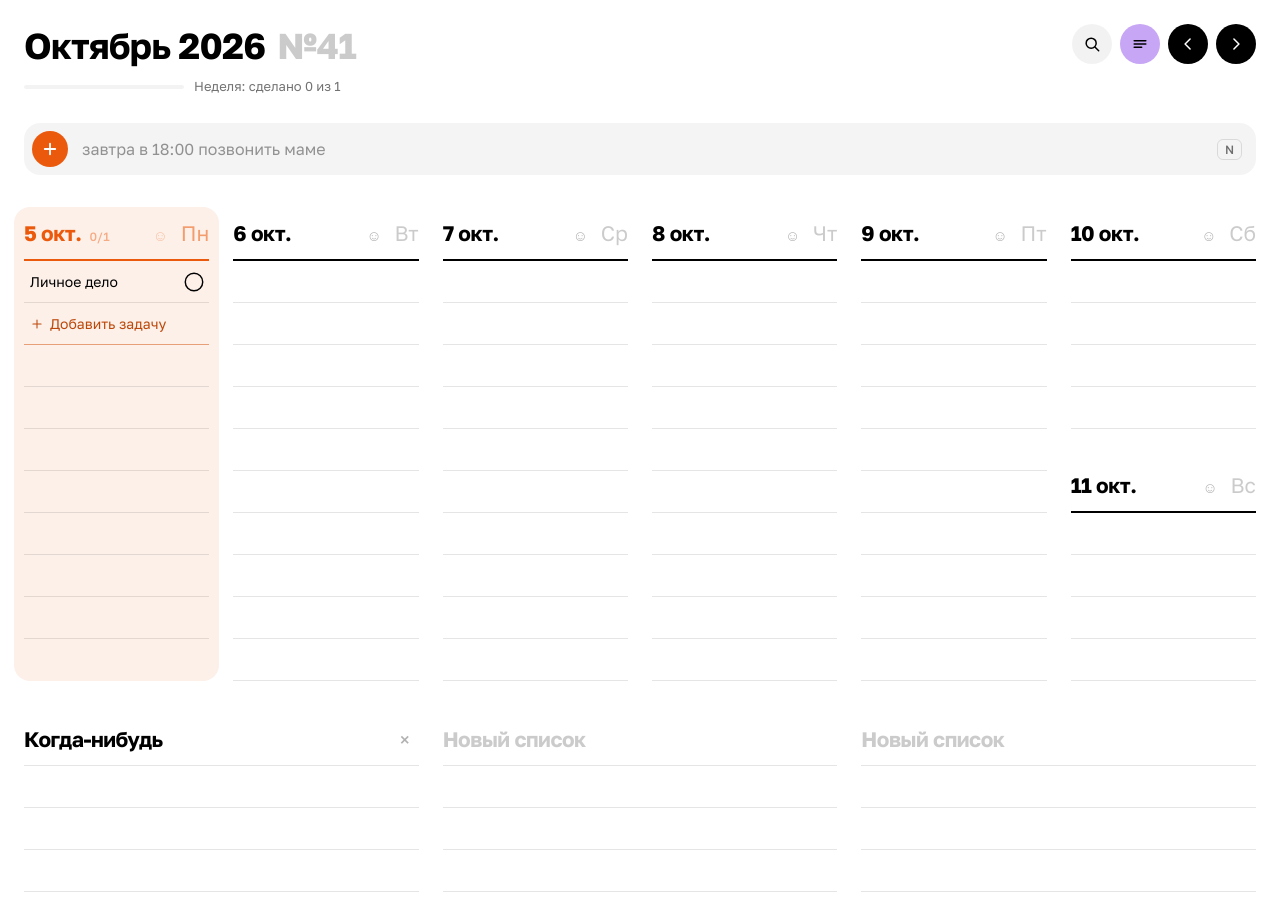
меню › создаёт календарь, переключается и не даёт удалить последний
Step 1. Click the button named "Меню" → (1140, 44), box [1120, 24, 1160, 64]
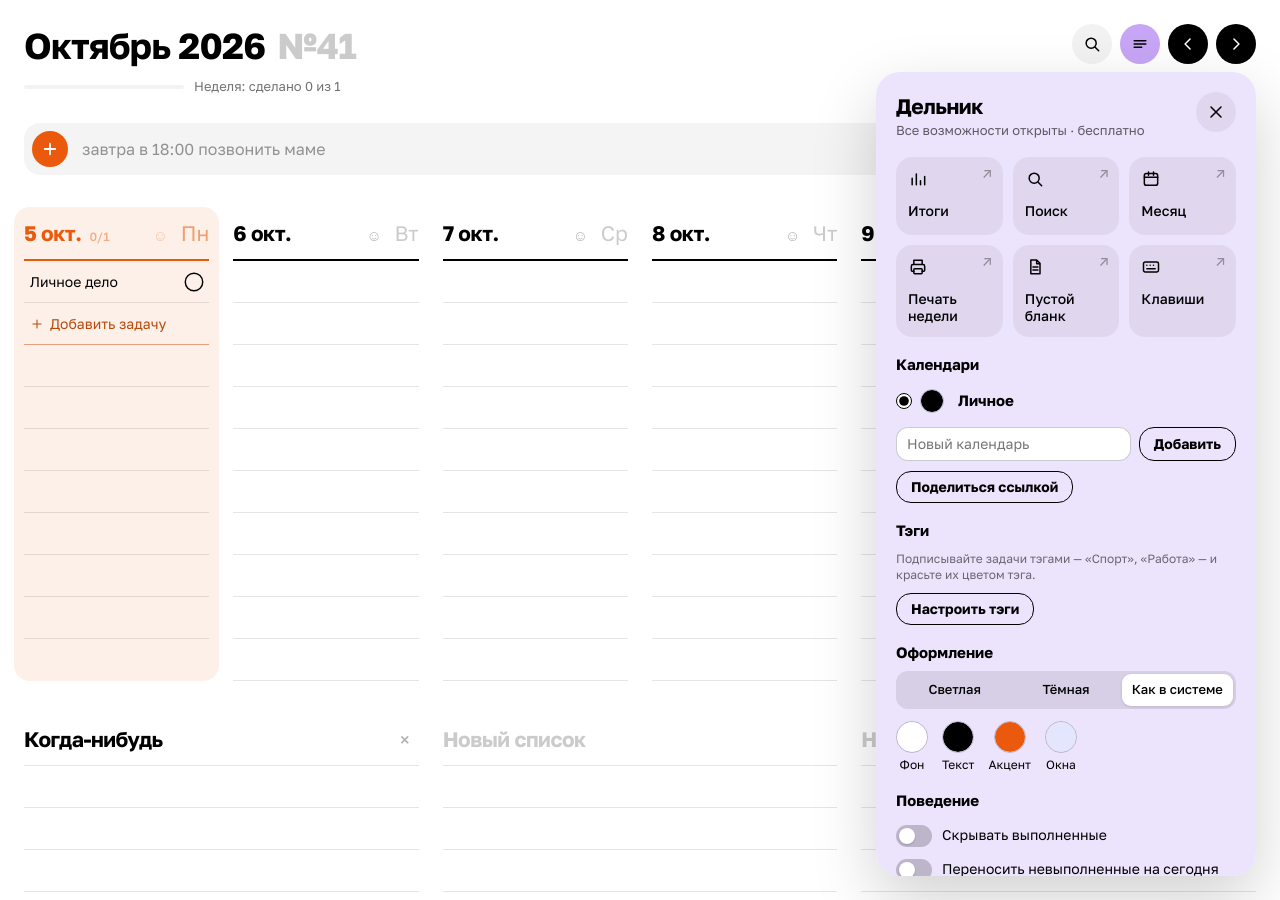
Step 2. Type "Работа" into the field named "Название нового календаря" → (1013, 444), box [896, 427, 1131, 461]
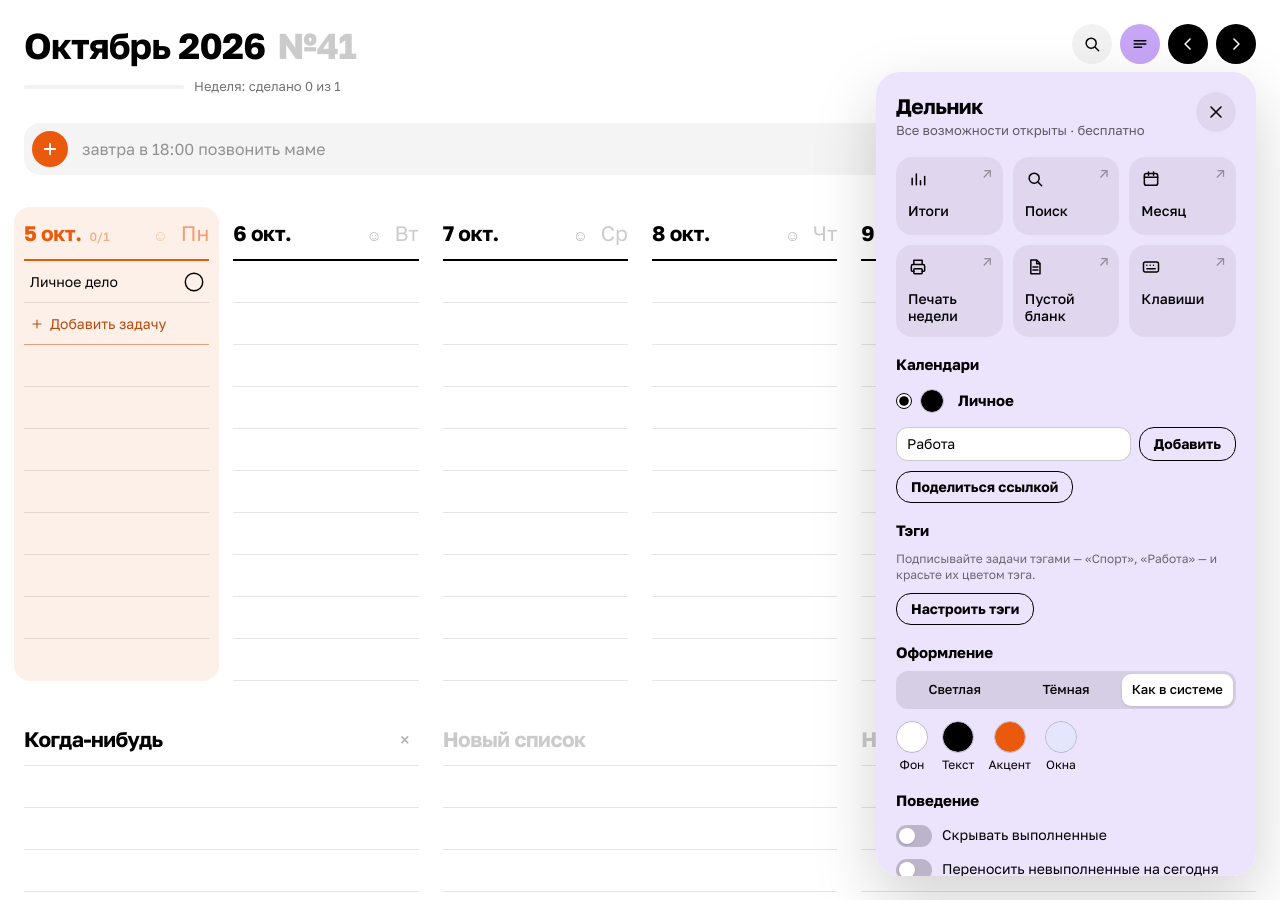
Step 3. Click the button "Добавить" → (1187, 444), box [1139, 427, 1236, 461]
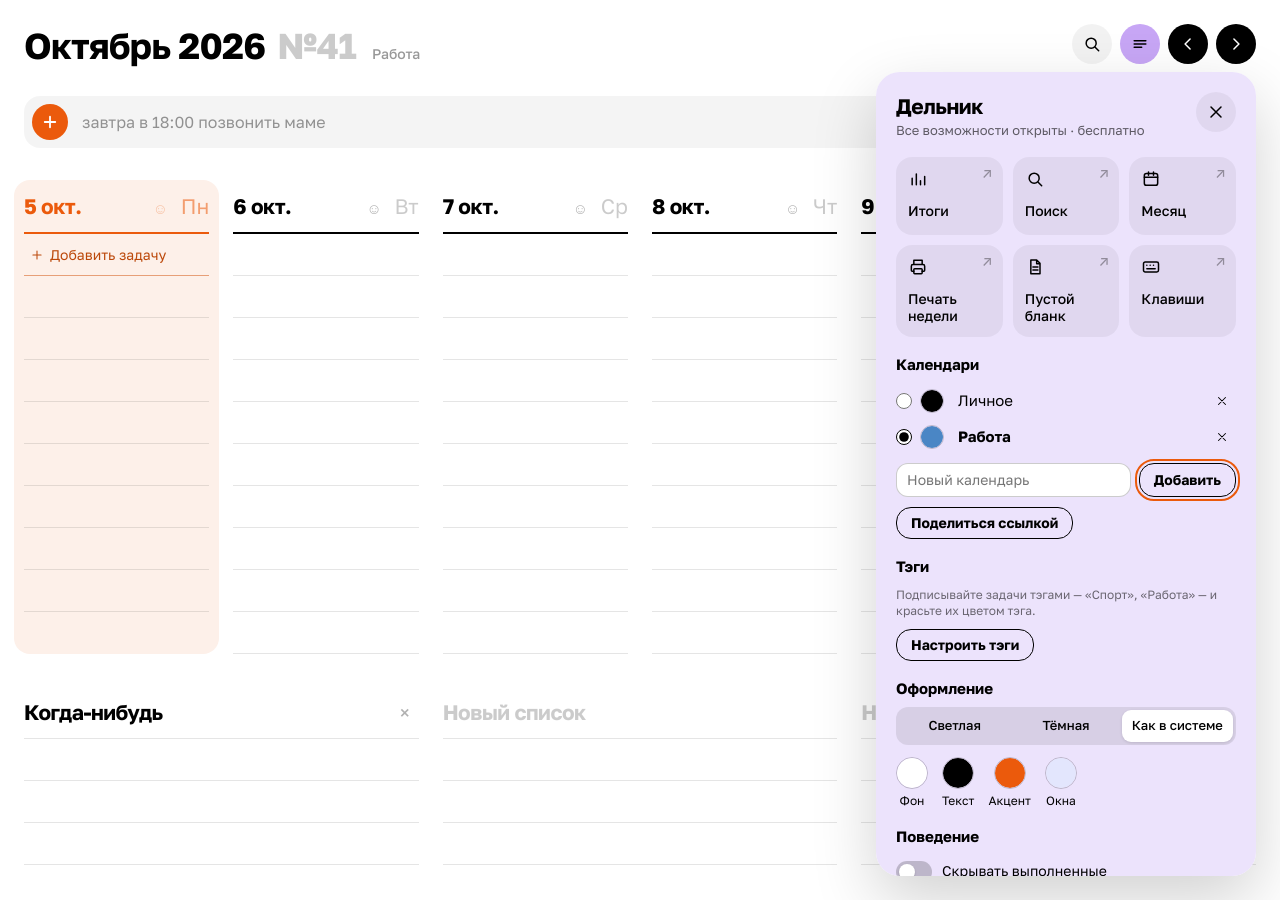
expect the button "Личное дело" is gone: met
expect the text "Работа" is shown: met, box [372, 47, 420, 61]
Step 4. Click the radio button named "Открыть календарь «Личное»" → (904, 401), box [896, 393, 912, 409]
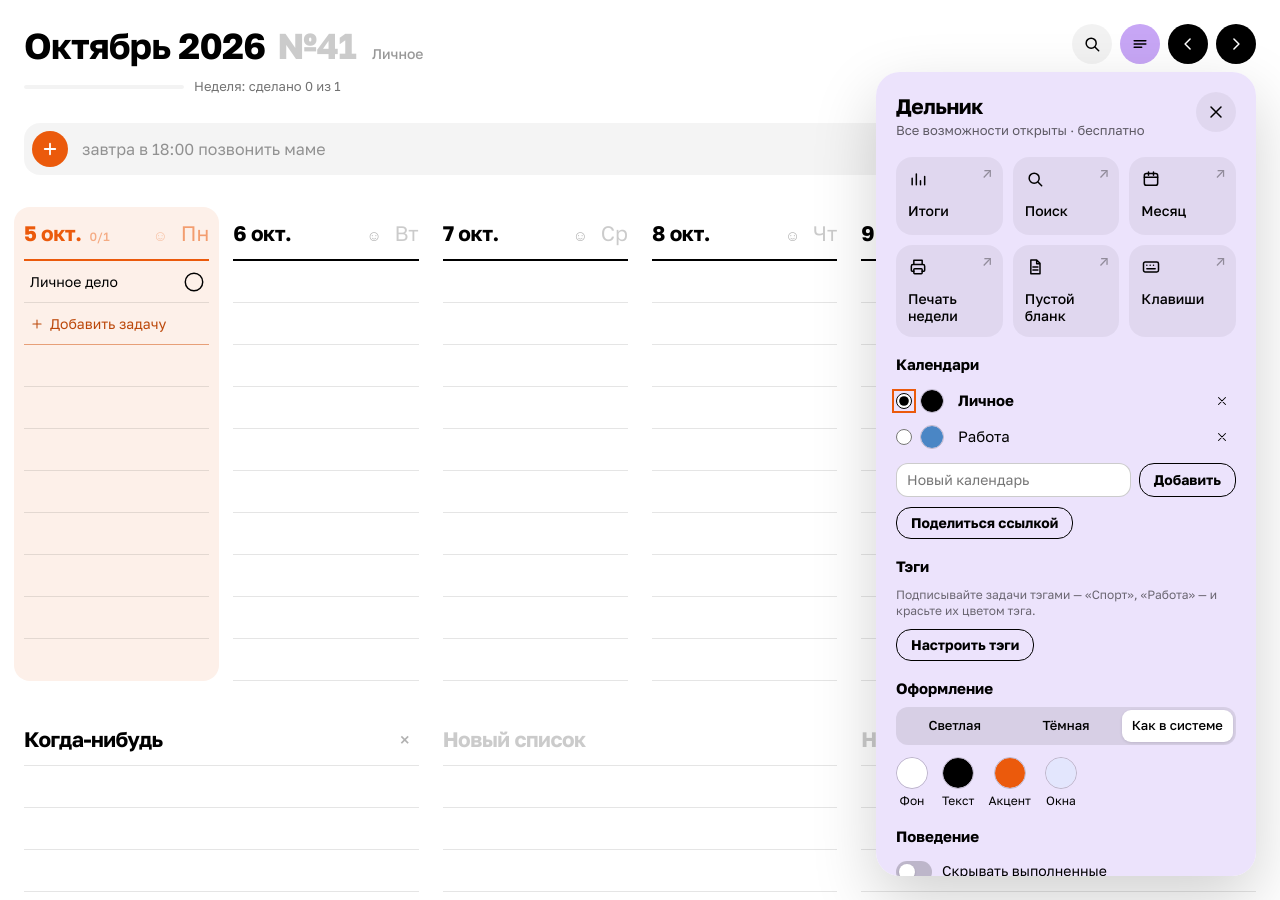
expect the number of buttons named "Удалить календарь" is 2: met, box [1208, 387, 1236, 415]; [1208, 423, 1236, 451]
expect the checkbox named "Личное дело" is shown: met, box [176, 272, 209, 292]
